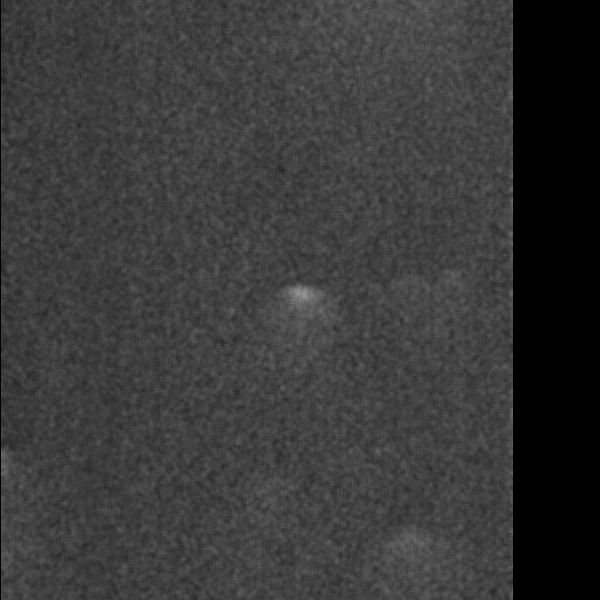spark: (380, 523, 455, 600), (281, 280, 321, 325)
